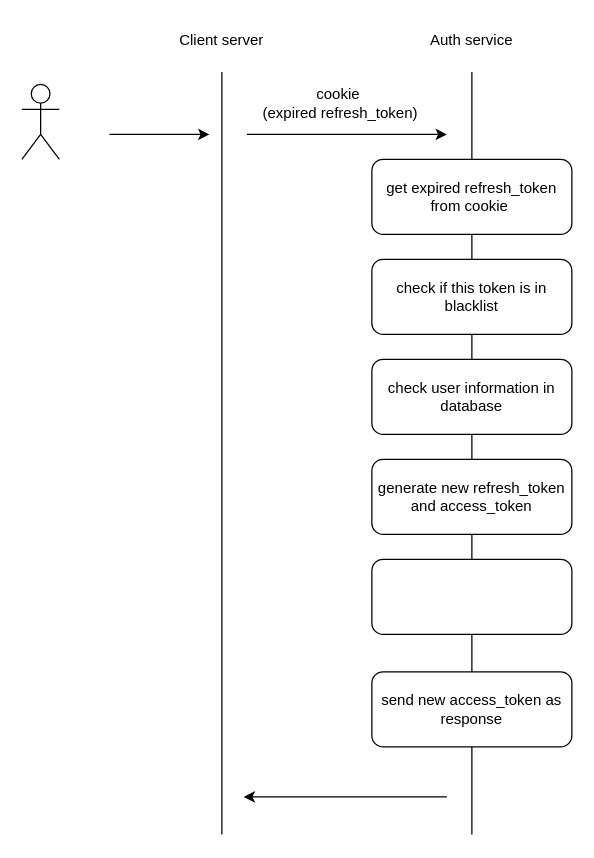
Some shapes in this 594 by 858 pixel diagram are drawn without their labels. Each missing label, with the centre of its shape:
"Actor" belongs at [40,121].
"save refresh_token to cache and save prev refresh_token to blacklist" belongs at [471,596].
